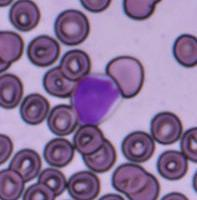L: (70, 72, 122, 126)
